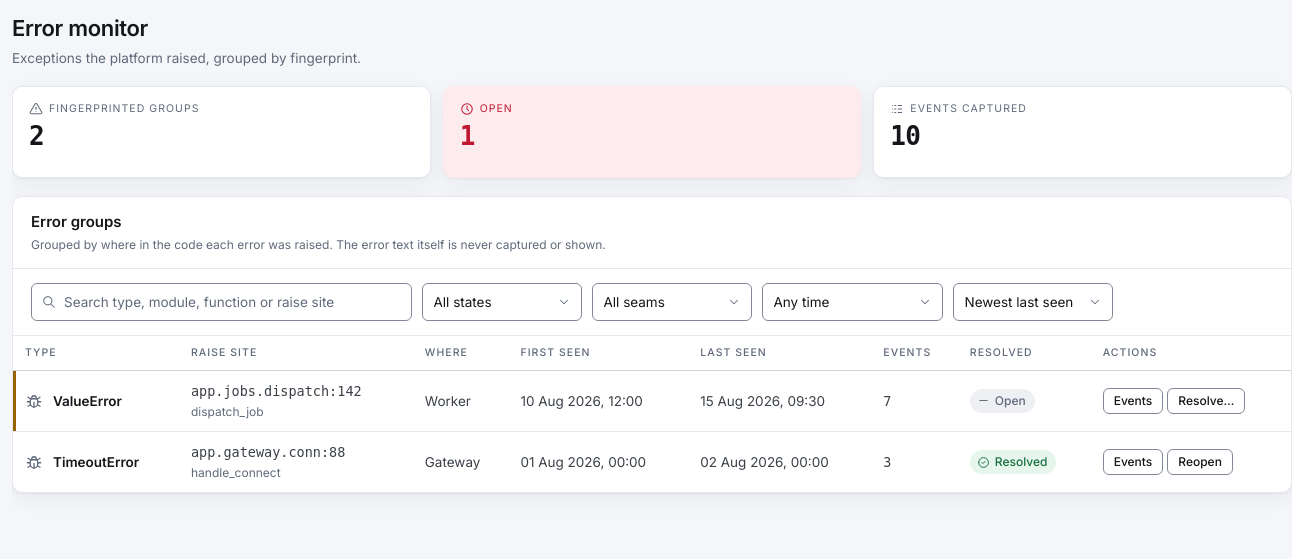
Test: ErrorMonitorPage reopen › routes a refused reopen through the console's error sentence, never the raw body
Click the button "Reopen" at (1200, 462), box [1167,449,1233,475]
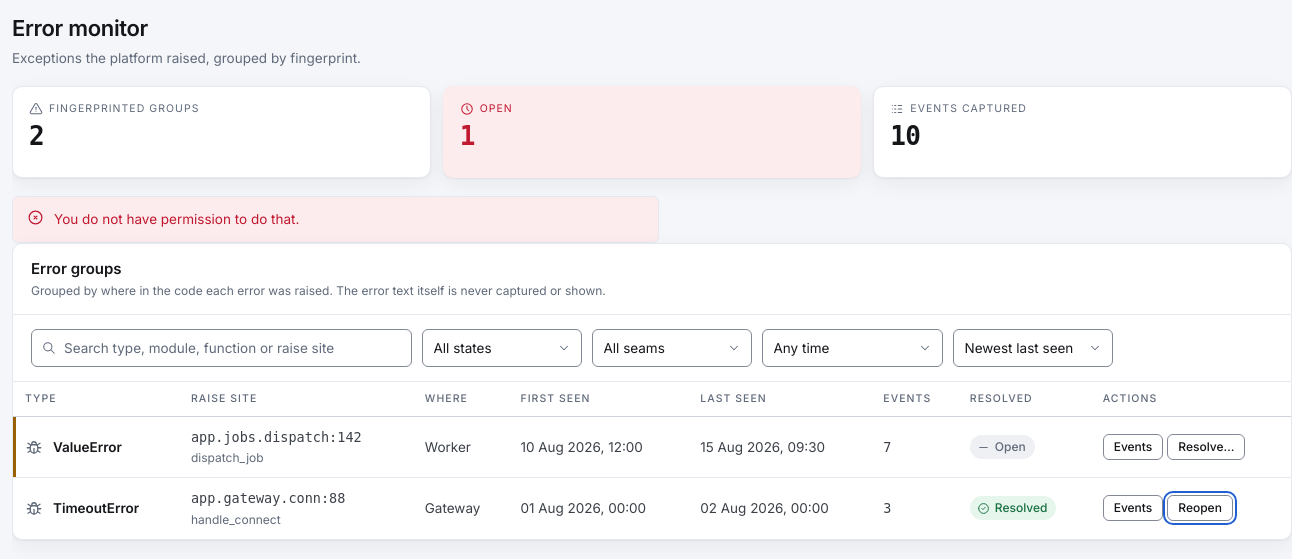
Expected: the text "You do not have permission to do that." is shown, [54,209,299,230]
